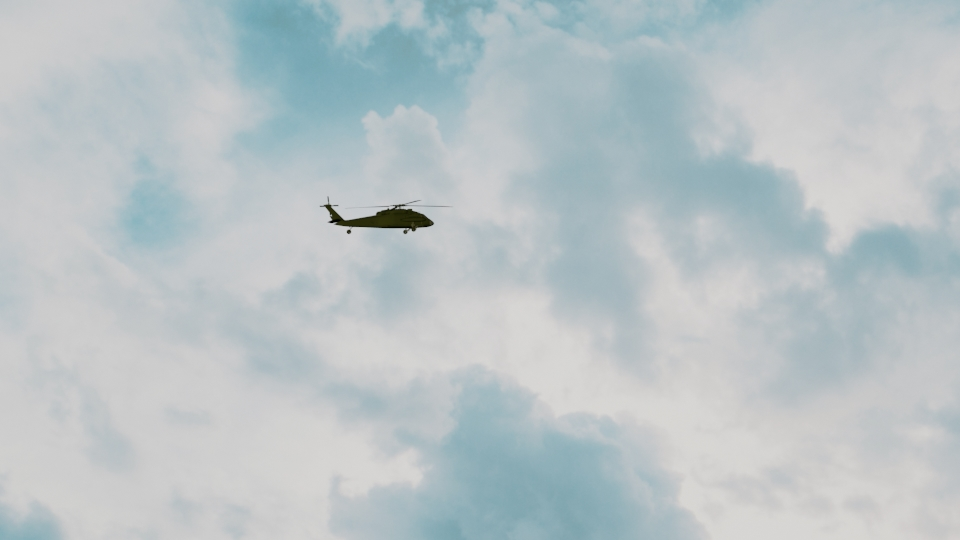heli: (317, 194, 435, 233)
